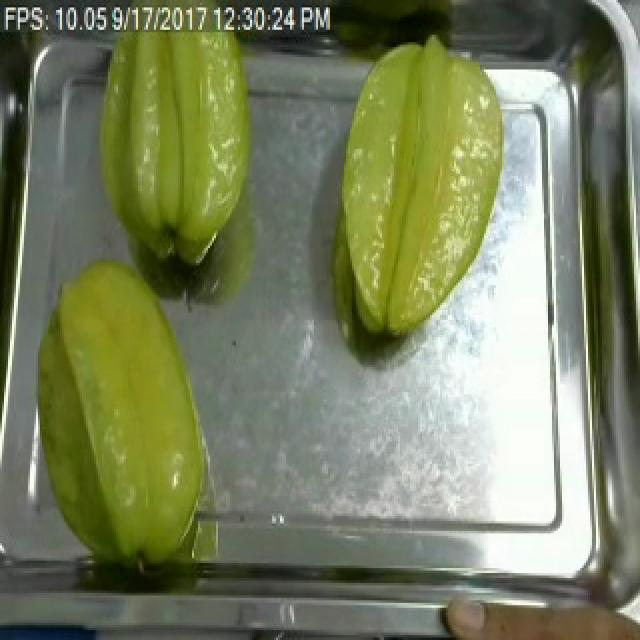fruit: (16, 243, 220, 586), (326, 28, 512, 348), (78, 32, 266, 280), (434, 570, 640, 640)
